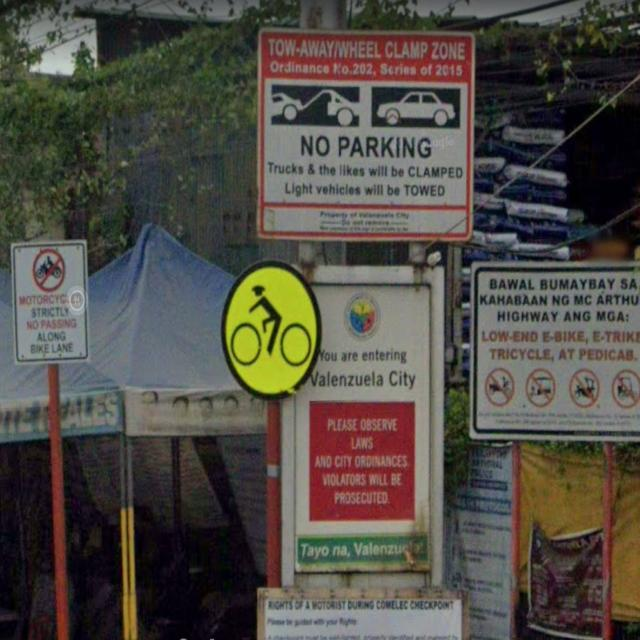bike lane: (220, 259, 323, 400)
